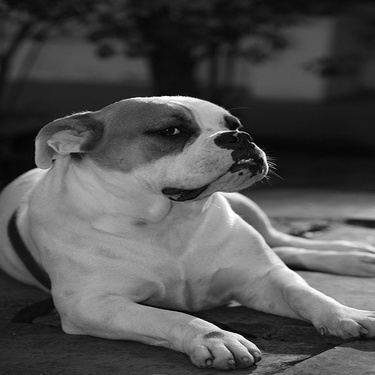dog: (1, 88, 372, 369)
